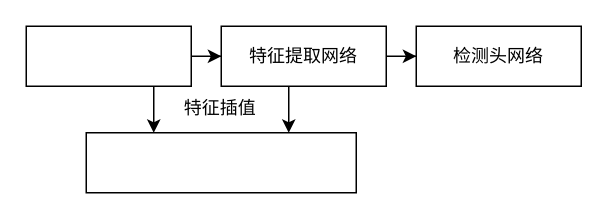
Some shapes in this 608 by 219 pixel diagram are drawn without their labels. Here are the shapes that lost their labels. From the top down, the box of each, then its label:
(25, 25, 191, 86): 点云编码网络
(85, 131, 356, 193): 辅助网络
